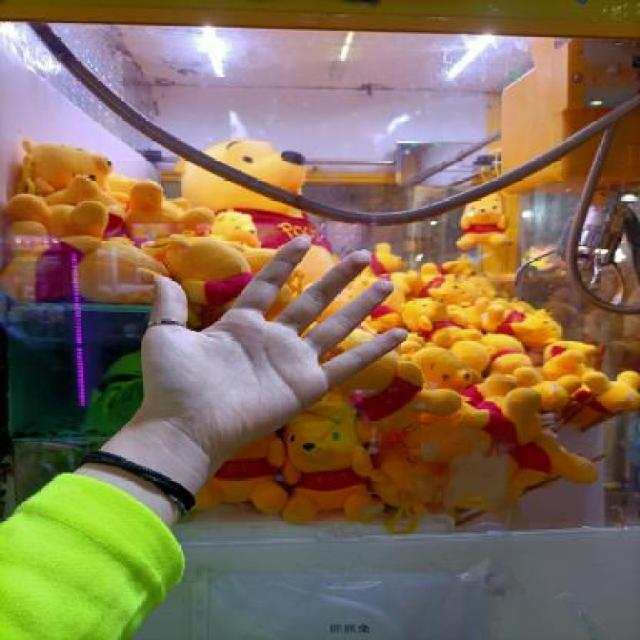bare_hand: (126, 226, 417, 469)
